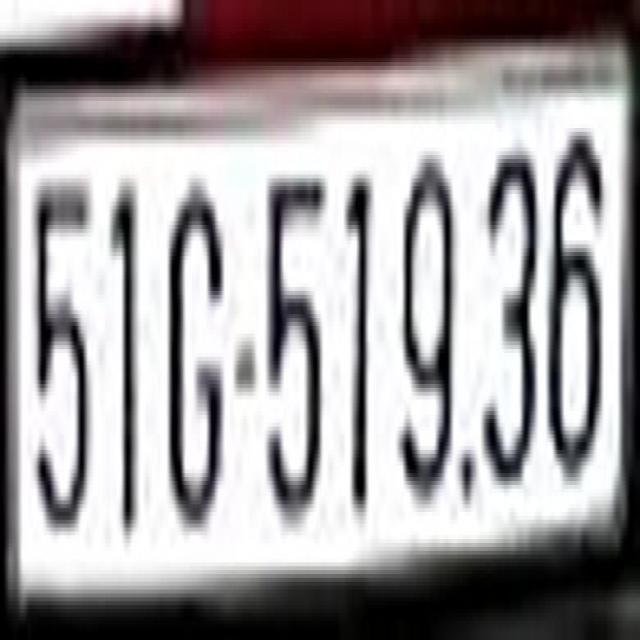1: (103, 163, 146, 547), (342, 155, 371, 547)
3: (481, 120, 536, 516)
5: (32, 163, 93, 551), (264, 144, 324, 532)
6: (543, 112, 607, 485)
9: (397, 132, 456, 527)
G: (164, 155, 225, 543)
